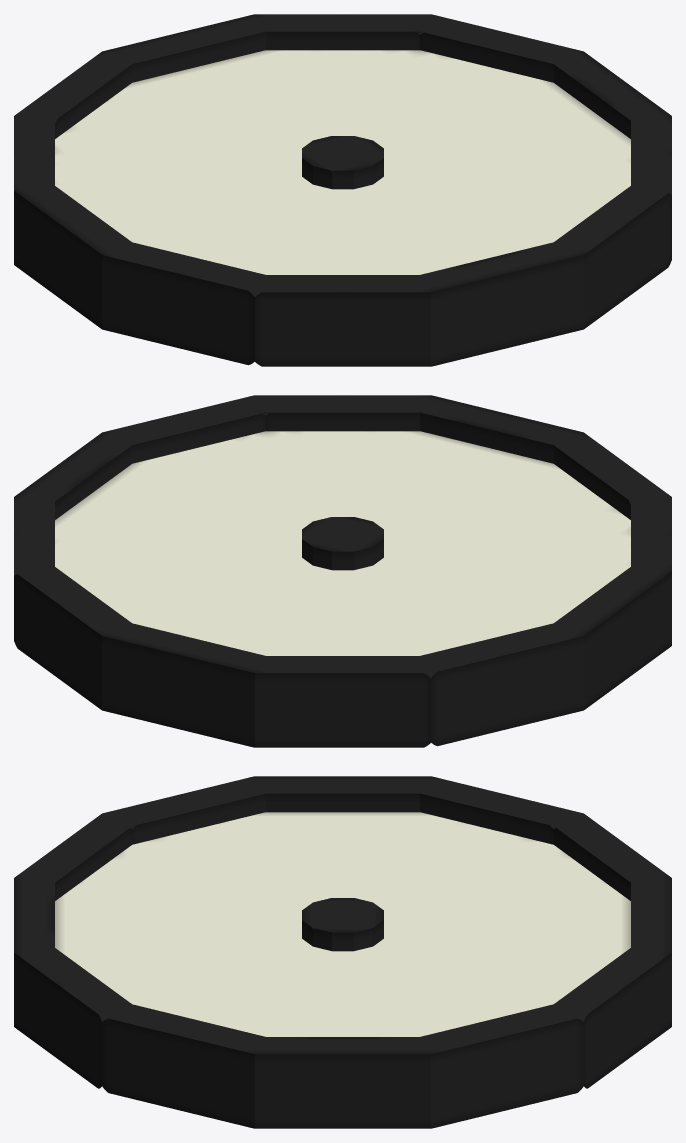
The model's file is change_in_circle.fbx.
3 views of the same model, one above another, from view 1: azimuth 30°, elevation 25°; view 2: azimuth 150°, elevation 25°; view 3: azimuth 270°, elevation 25° (orthographic).
Parts seen in each view (by area): view 1: glow, cylinder, cylinder_1; view 2: glow, cylinder, cylinder_1; view 3: glow, cylinder, cylinder_1.
Boxes of the visible parts, box(x1,y1,x2,y2) form: glow: box(55, 50, 630, 274); cylinder: box(14, 14, 671, 366); cylinder_1: box(302, 136, 383, 189); glow: box(55, 431, 630, 655); cylinder: box(14, 395, 671, 747); cylinder_1: box(302, 517, 383, 570); glow: box(55, 812, 630, 1036); cylinder: box(14, 776, 671, 1128); cylinder_1: box(302, 898, 383, 951).
Bounding box in the file's own units: 100 × 12.5 × 100.
Materials: 1 (1 with a texture image).
